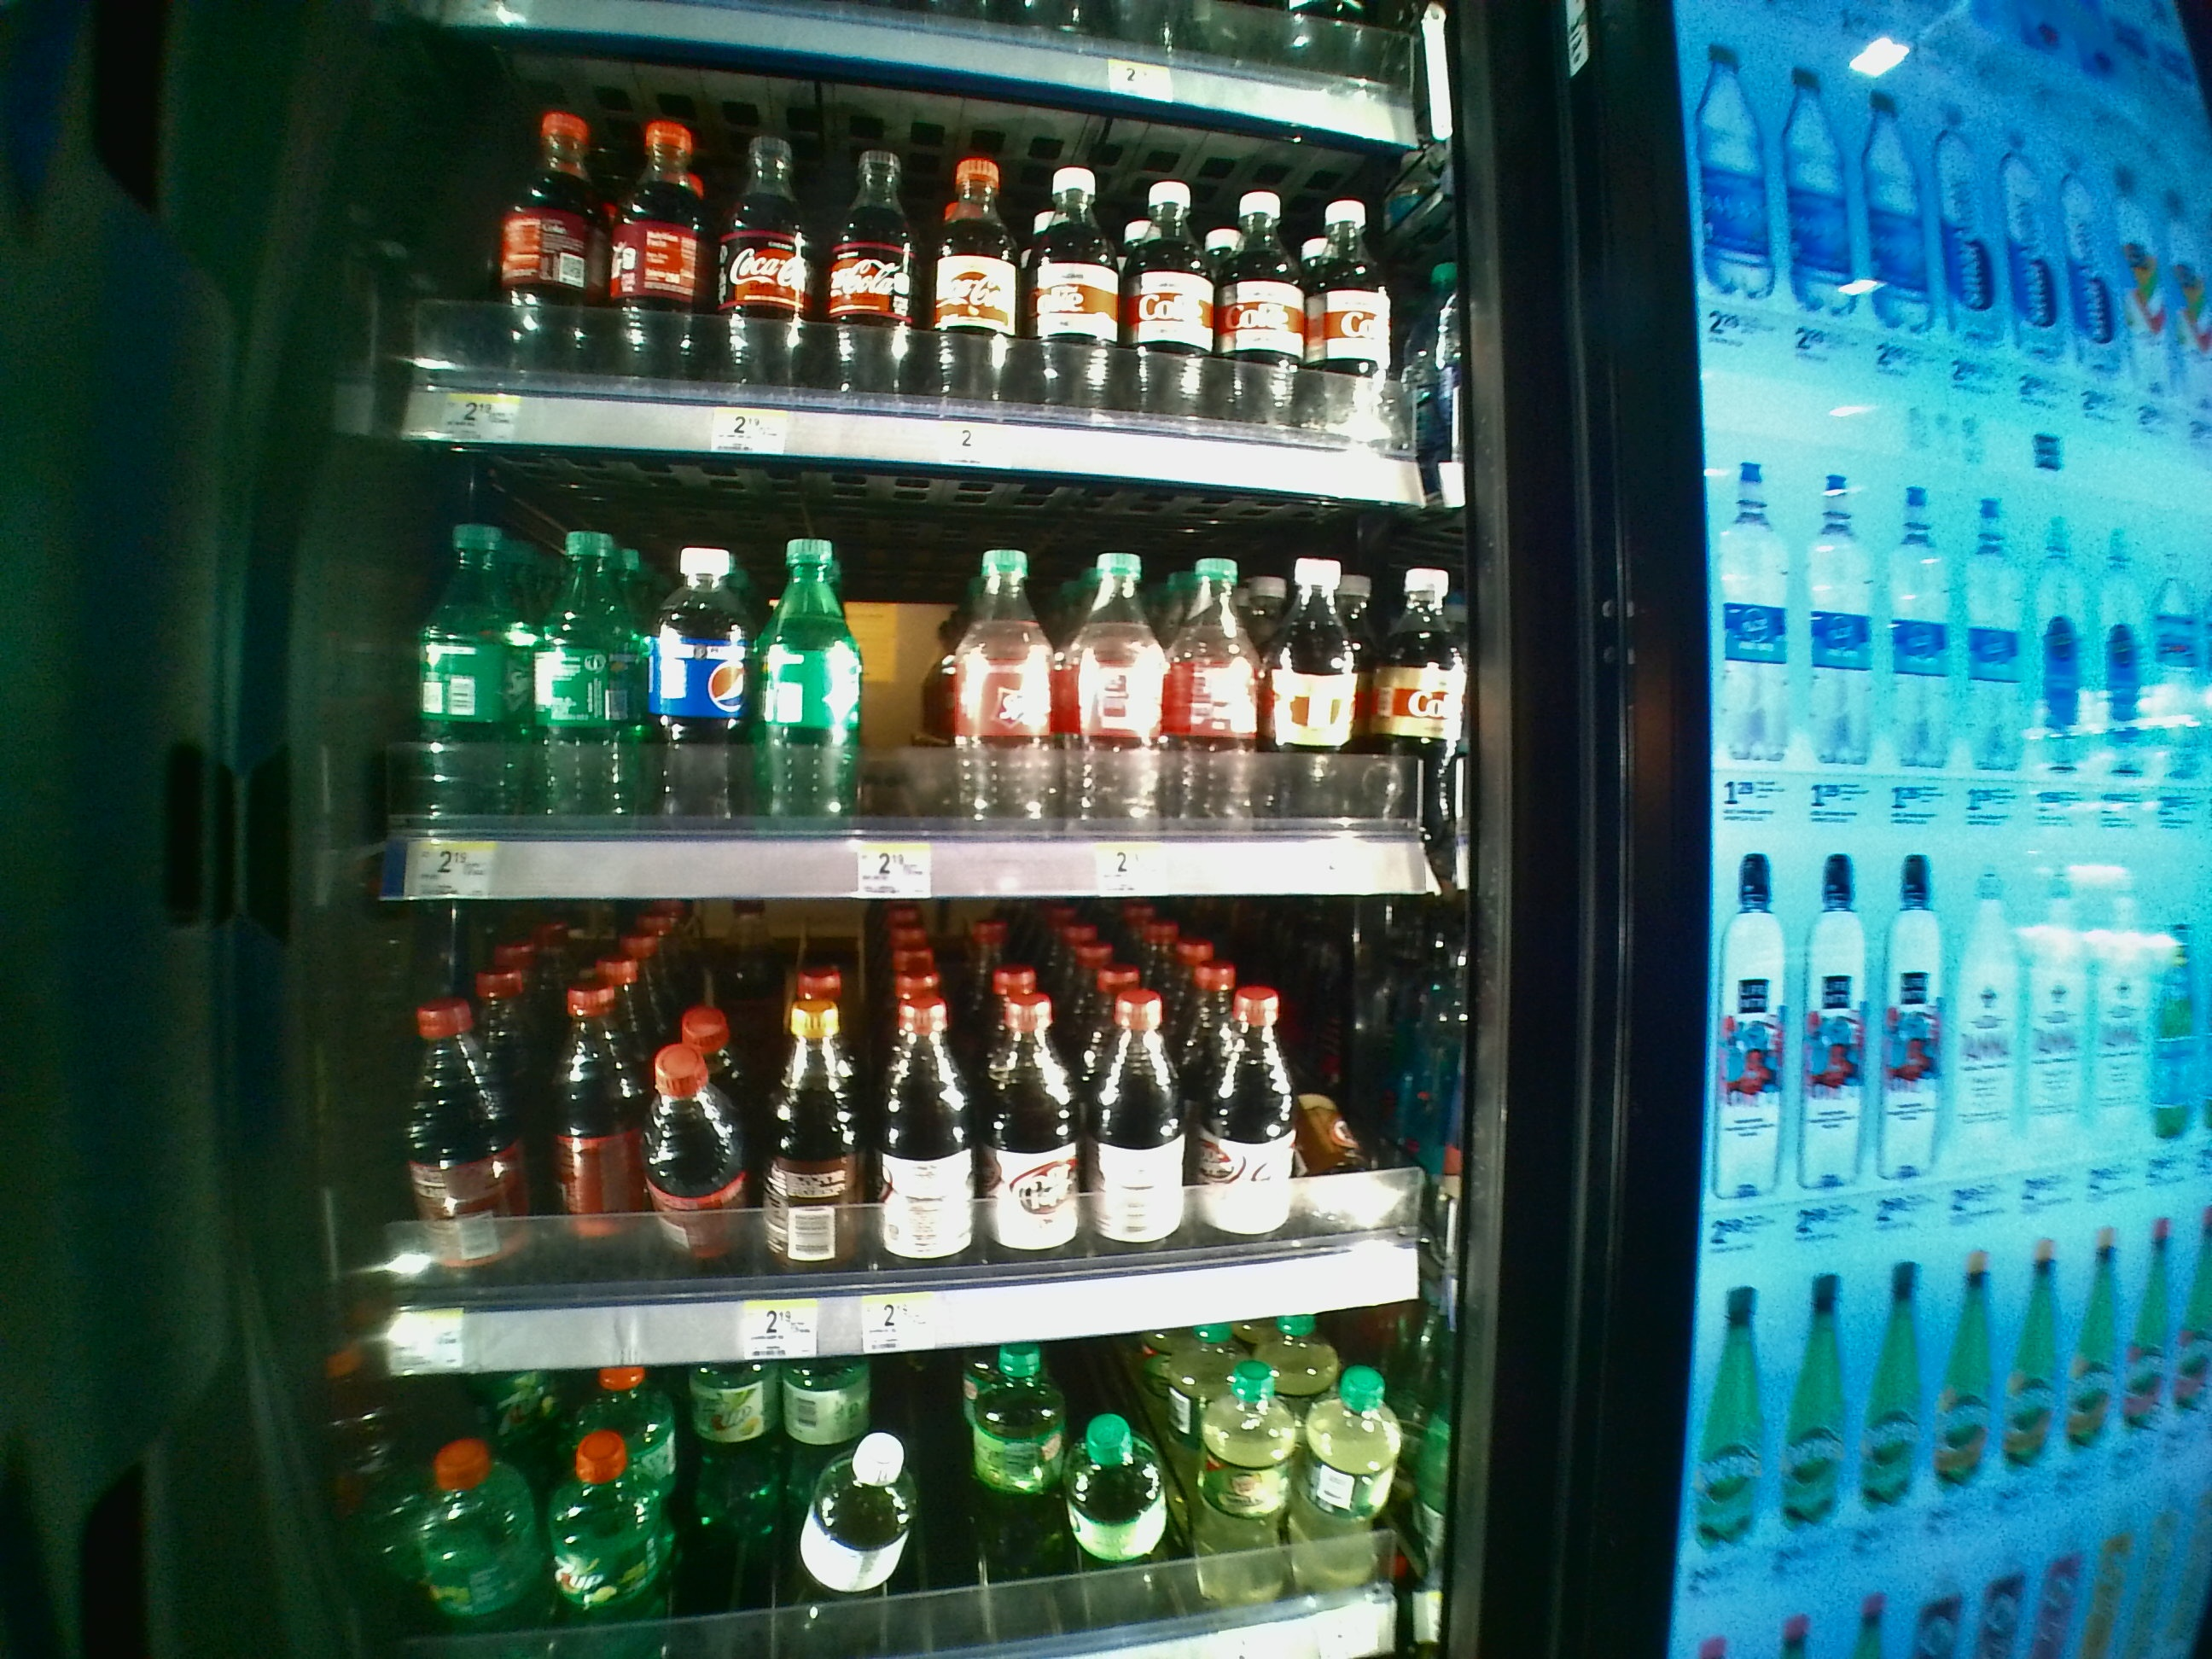shelf: (374, 910, 1446, 1377), (371, 446, 1451, 897)
